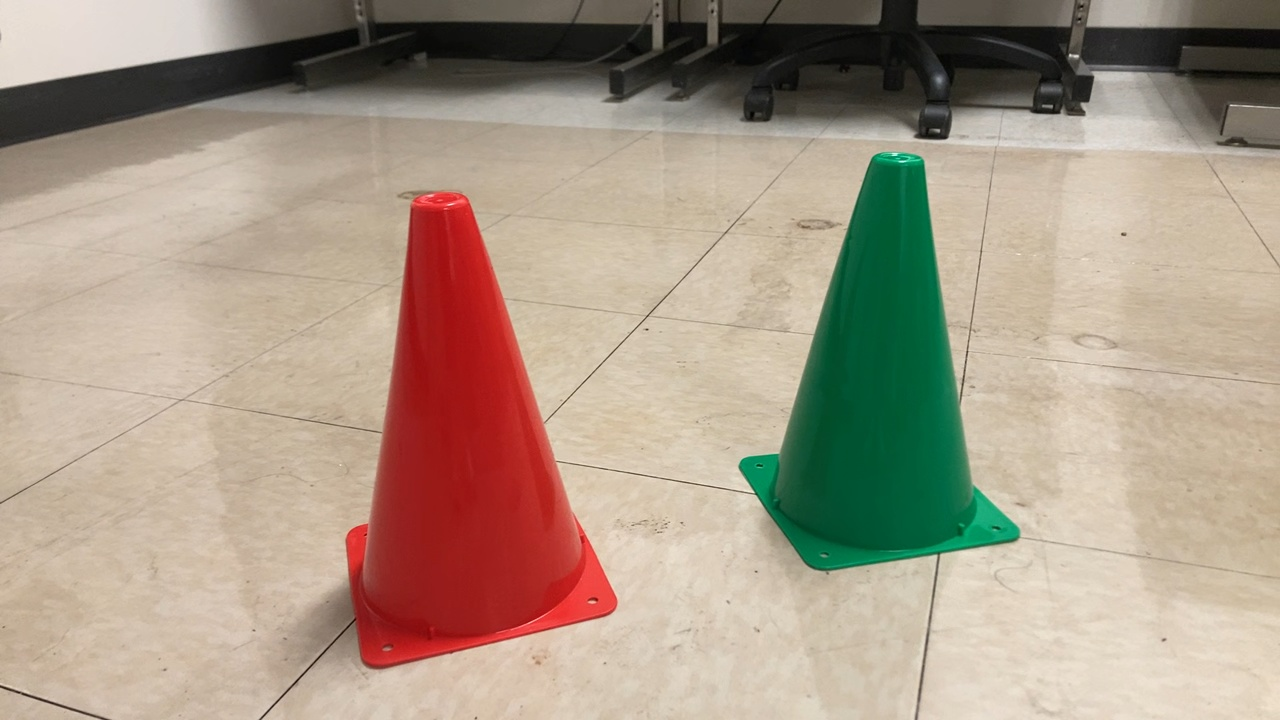green_cone: (724, 147, 1033, 578)
red_cone: (340, 188, 626, 678)
